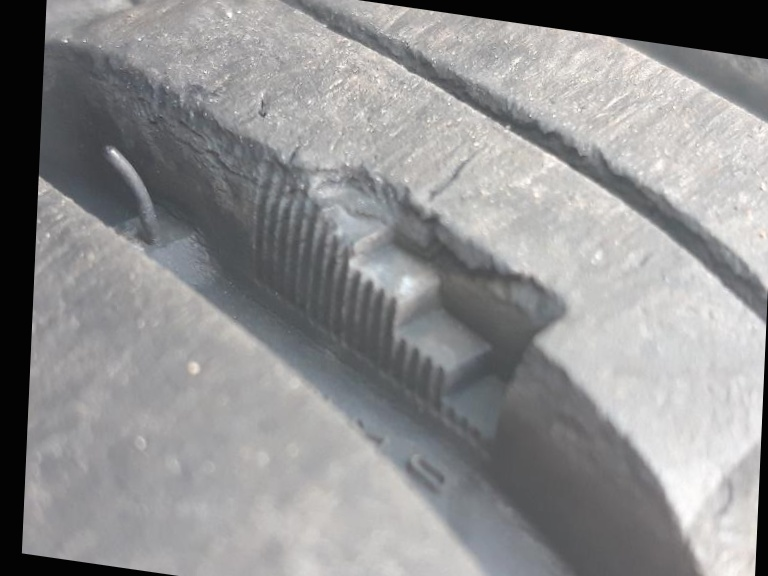temoin:80: (228, 112, 591, 484)
